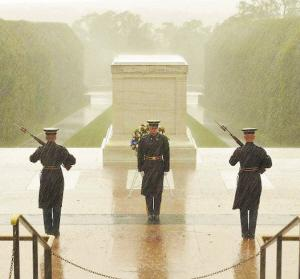up: (26, 124, 77, 237), (225, 126, 273, 231), (131, 117, 171, 221)
